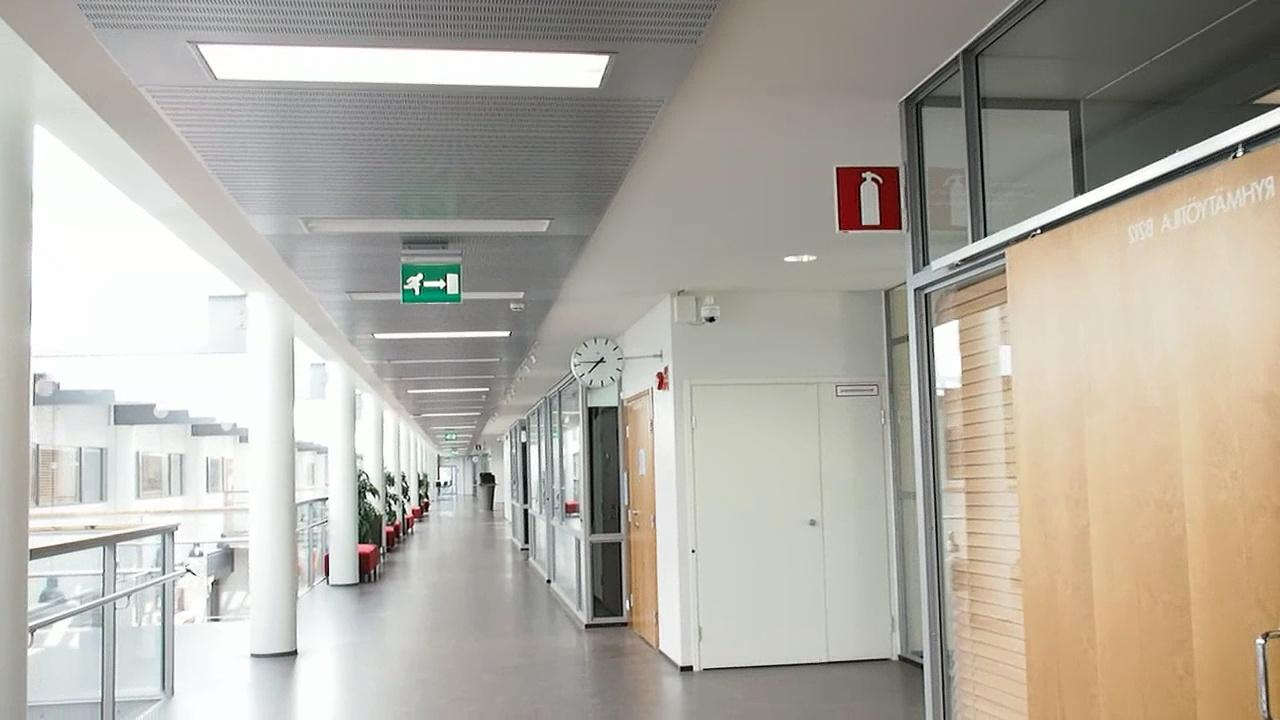clock: (568, 340, 625, 400)
exit: (396, 261, 461, 307)
fireextinguisher: (837, 161, 905, 230)
